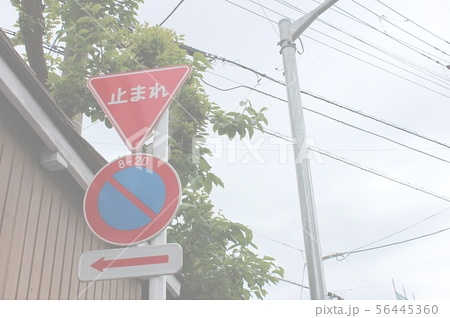Prohibition_sign: (72, 149, 206, 242)
